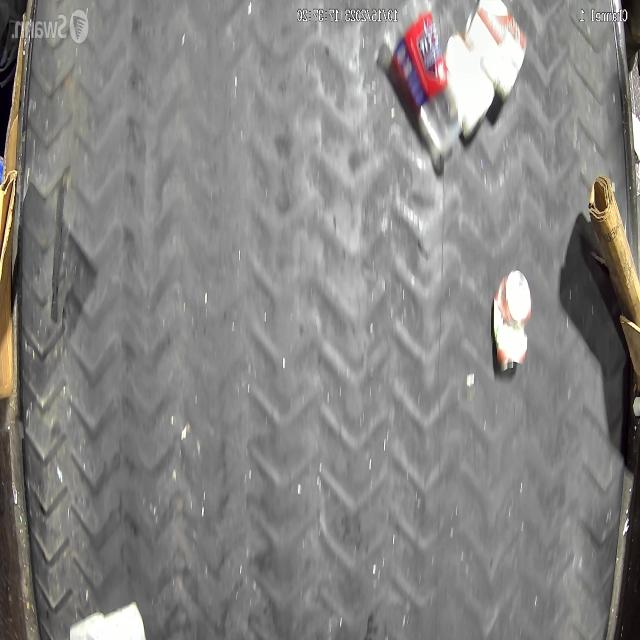can: (463, 3, 528, 101), (494, 260, 534, 371)
